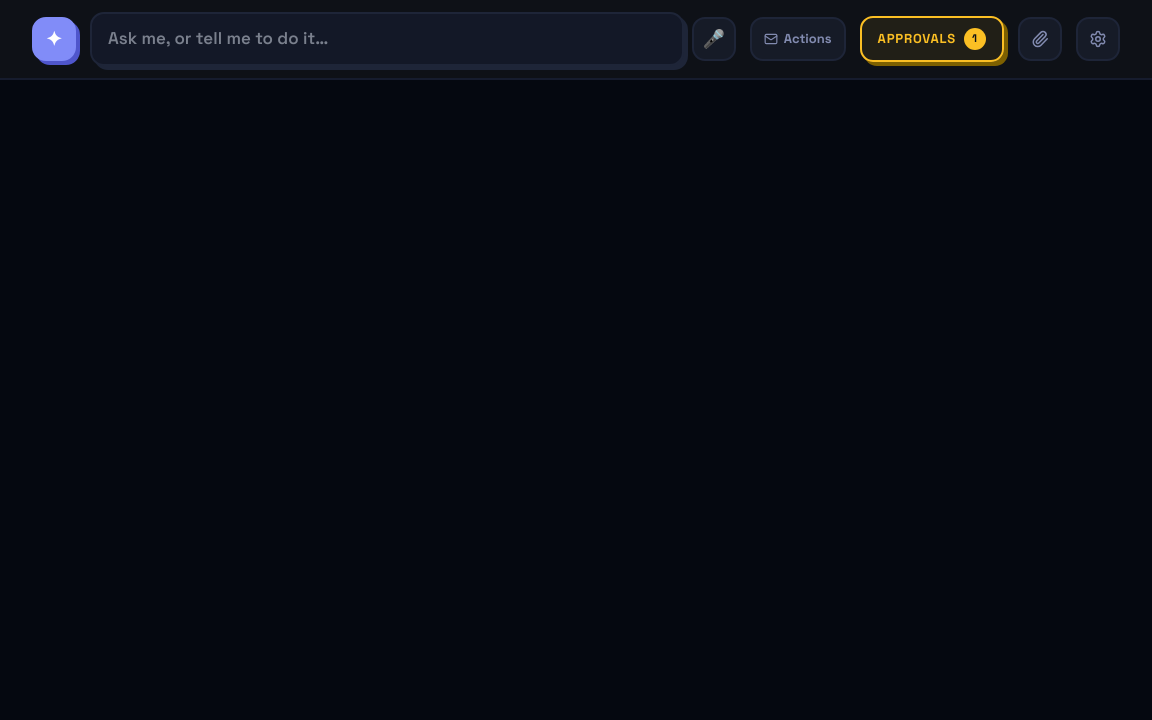
Test: CopilotBar — one-window chat: Actions / Approvals badges + modals (P3) › opens the Approvals modal (pending drafts) from the Approvals badge
Step 1. Click the button with aria-label "Approvals (1)" → (932, 39), box x1=860 y1=16 x2=1004 y2=62
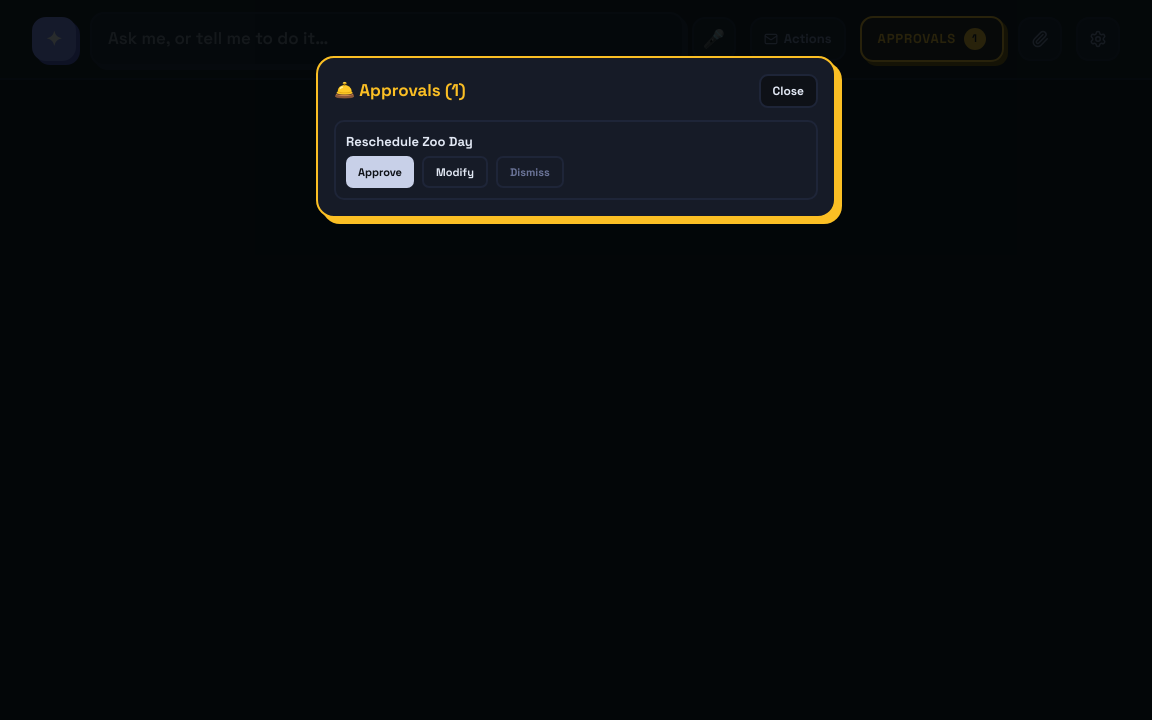
Check: the text "Reschedule Zoo Day" is shown, box x1=346 y1=133 x2=473 y2=150
